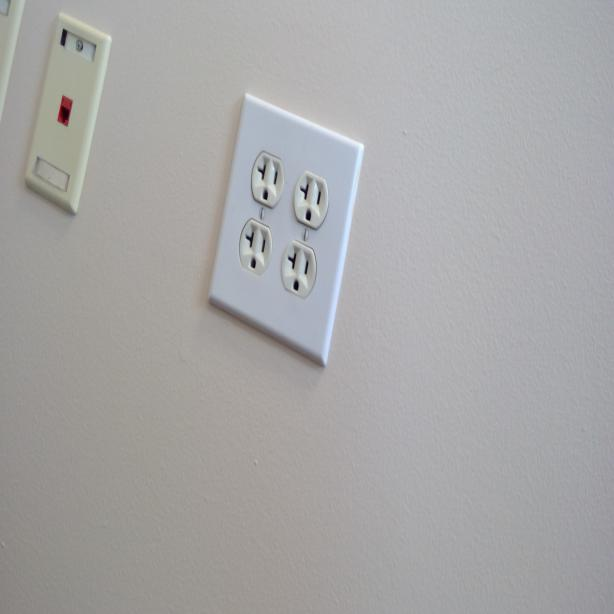typeb: (238, 220, 273, 276), (294, 170, 328, 227), (281, 244, 316, 298), (250, 153, 284, 207)
